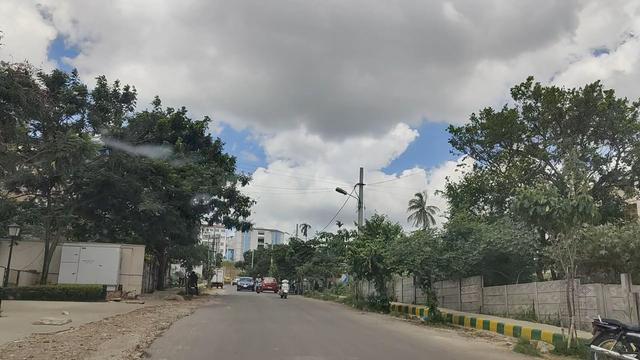RoadDamages: (5, 305, 214, 360)
